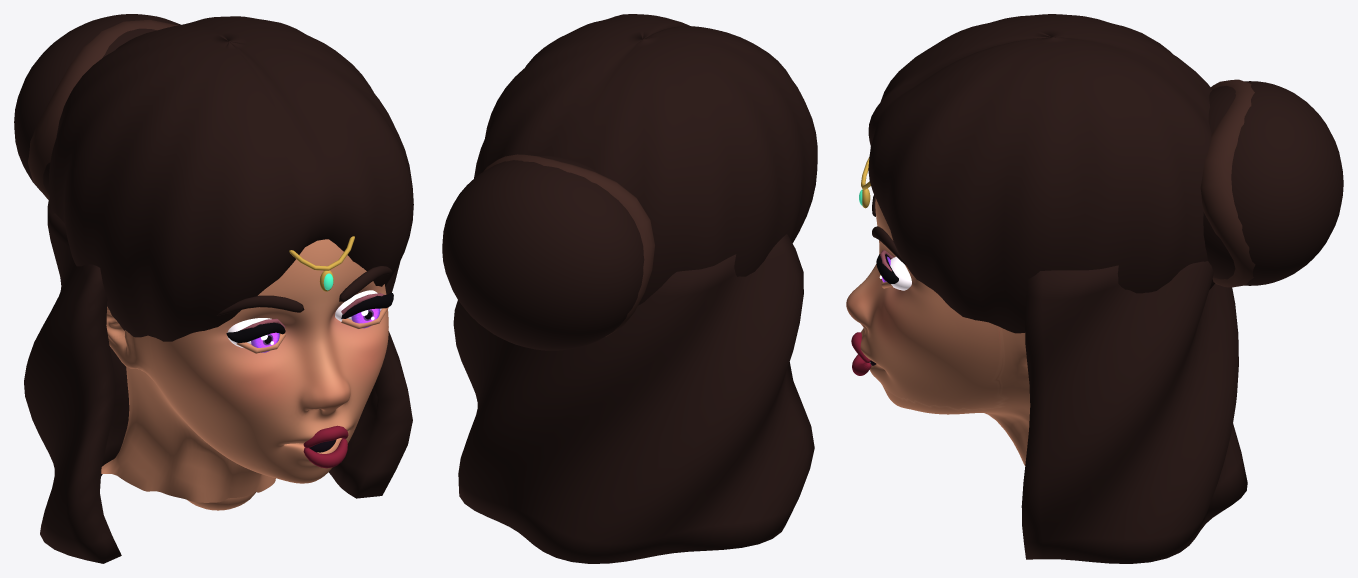
The model's file is char_hr_veronika_head_talk_round.glb.
3 renders of one model, left to right at view 1: azimuth 30°, elevation 25°; view 2: azimuth 150°, elevation 25°; view 3: azimuth 270°, elevation 25°, orthographic. The views are drawn at different scales.
Visible parts, largest first — view 1: char_hr_veronika_head_talk_round; view 2: char_hr_veronika_head_talk_round; view 3: char_hr_veronika_head_talk_round.
Boxes of the visible parts, box(x1,y1,x2,y2) form: char_hr_veronika_head_talk_round: box(14, 14, 413, 563); char_hr_veronika_head_talk_round: box(442, 14, 817, 563); char_hr_veronika_head_talk_round: box(846, 14, 1343, 563).
Size of the model in its own units: 0.2201 by 0.2918 by 0.2869.
Materials: 12 (2 with a texture image).
